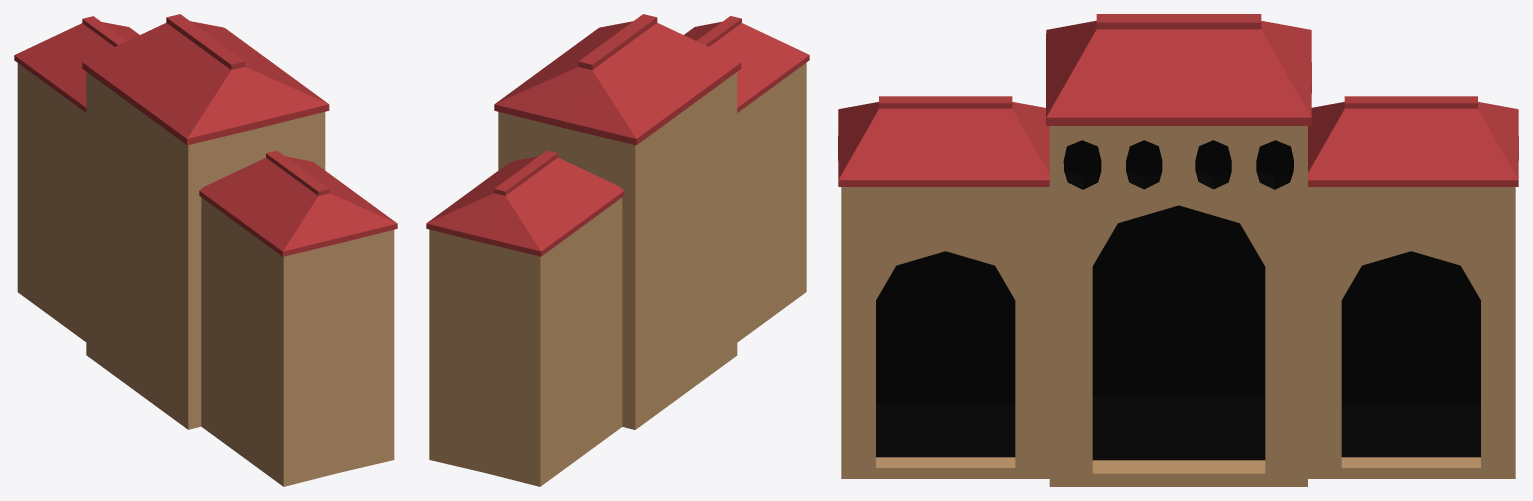
Rendered from Vault2.fbx.
3 views of the same model, side by side, from view 1: azimuth 30°, elevation 25°; view 2: azimuth 150°, elevation 25°; view 3: azimuth 270°, elevation 25° (orthographic). The views are drawn at different scales.
Parts seen in each view (by area): view 1: Arco2.2, Arco3, Arco2; view 2: Arco2, Arco3, Arco2.2; view 3: Arco3, Arco2.2, Arco2.
Boxes of the visible parts, x1=… form: Arco2.2: x1=199, y1=150, x2=397, y2=486; Arco3: x1=82, y1=14, x2=329, y2=429; Arco2: x1=14, y1=16, x2=139, y2=341; Arco2: x1=426, y1=150, x2=624, y2=486; Arco3: x1=494, y1=14, x2=741, y2=429; Arco2.2: x1=684, y1=16, x2=809, y2=342; Arco3: x1=1046, y1=14, x2=1311, y2=486; Arco2.2: x1=838, y1=96, x2=1049, y2=478; Arco2: x1=1308, y1=96, x2=1518, y2=478.
Size of the model in its own units: 1491 by 3374 by 4882.
